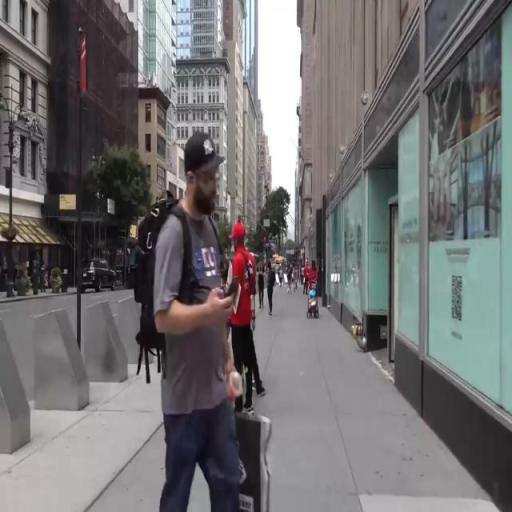person: (142, 146, 241, 512), (231, 223, 256, 411), (267, 260, 280, 330), (312, 261, 323, 323), (259, 257, 265, 309), (287, 264, 294, 296), (305, 259, 310, 293), (292, 265, 297, 293), (301, 264, 306, 288), (297, 267, 300, 292), (281, 264, 284, 287)
